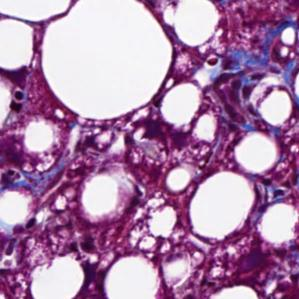inflammation: (206, 51, 255, 100)
